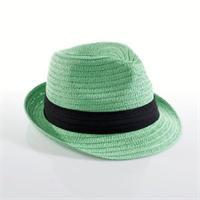hat: (24, 42, 182, 161)
